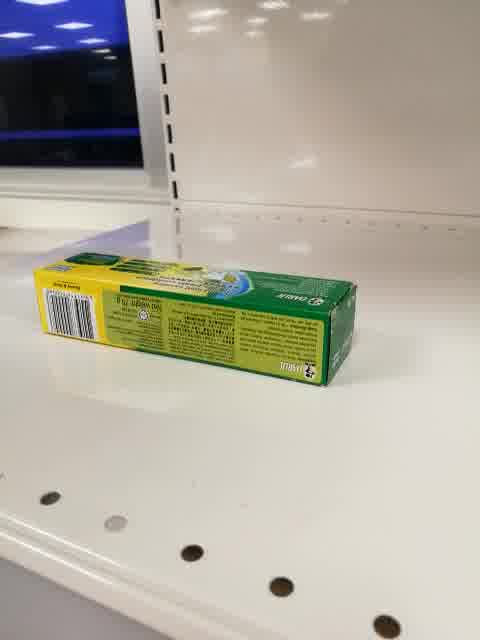toothpaste: (32, 251, 359, 389)
